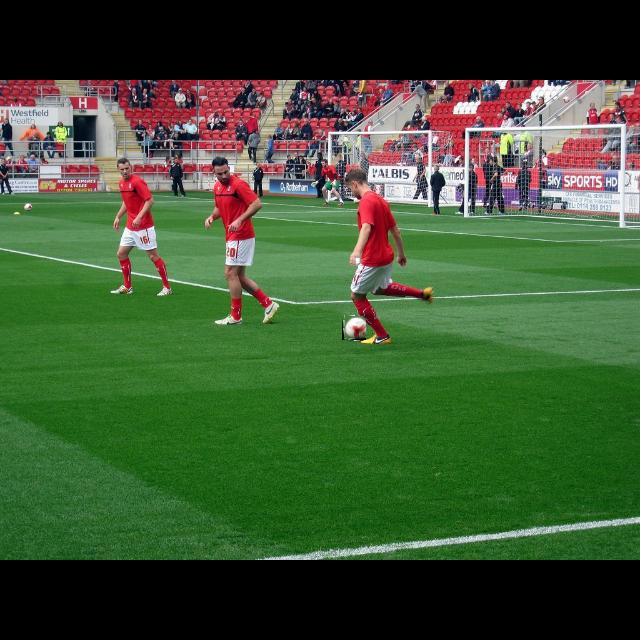Football: (342, 316, 366, 340)
